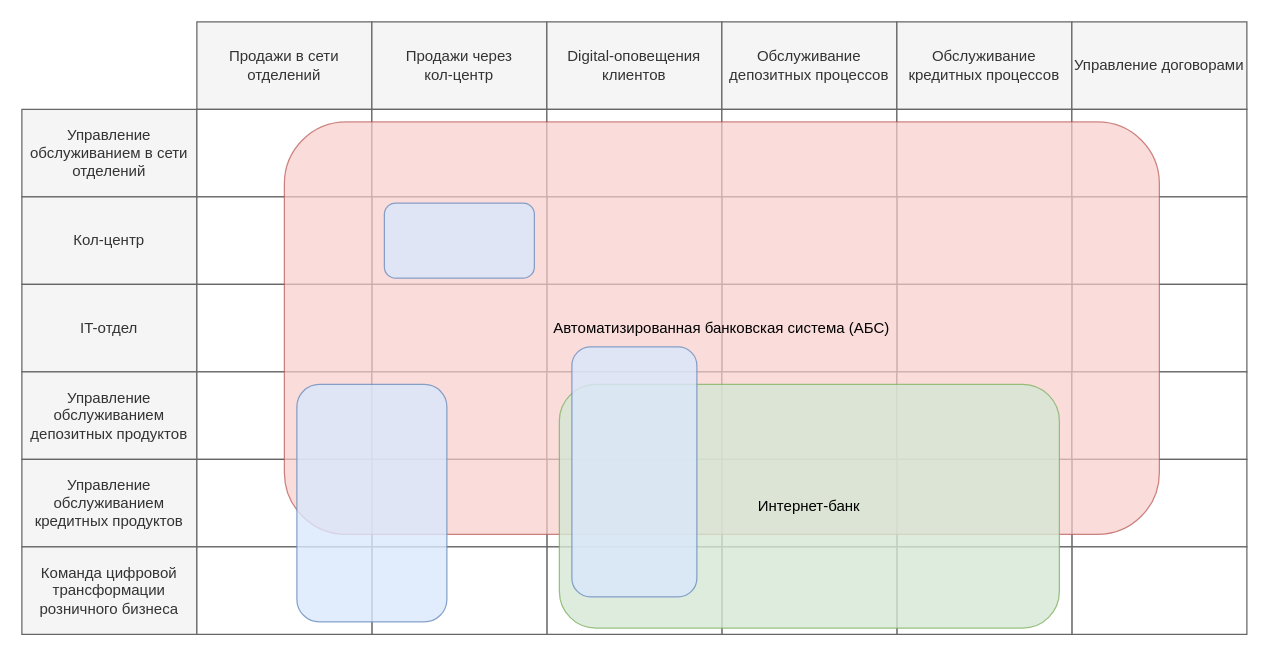
The diagram is 1269 pixels wide and 656 high, and some of its shapes have lost their labels. Each missing label, with the centre of its shape:
Сайт: the point at 371,502
Система Кол-центра: the point at 458,240
СМС-шлюз телеком-оператора: the point at 634,471
